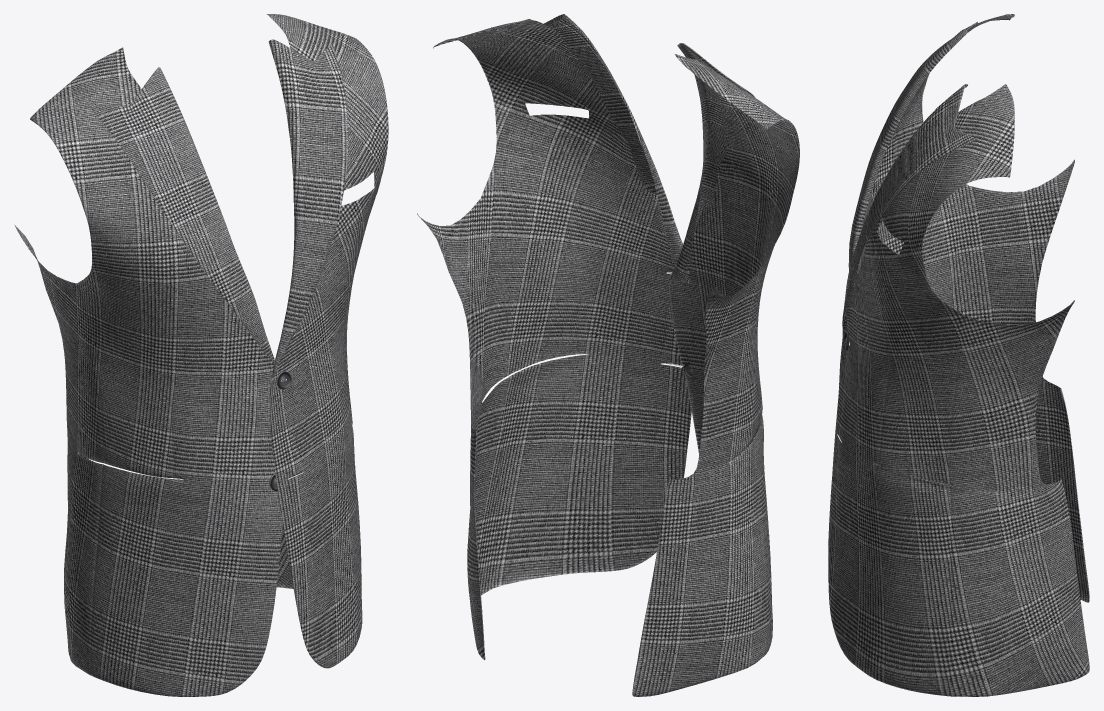
File: peakdoublebtn.glb
3 views of the same model, side by side, from view 1: azimuth 30°, elevation 25°; view 2: azimuth 150°, elevation 25°; view 3: azimuth 270°, elevation 25° (orthographic). The views are drawn at different scales.
Parts seen in each view (by area): view 1: Peak_Double_Button; view 2: Peak_Double_Button; view 3: Peak_Double_Button.
Boxes of the visible parts, box(x1,y1,x2,y2) form: Peak_Double_Button: box(15, 14, 388, 696); Peak_Double_Button: box(417, 14, 799, 696); Peak_Double_Button: box(828, 14, 1089, 696).
Size of the model in its own units: 0.0585 by 0.1024 by 0.0411.
Materials: 4 (3 with a texture image).
